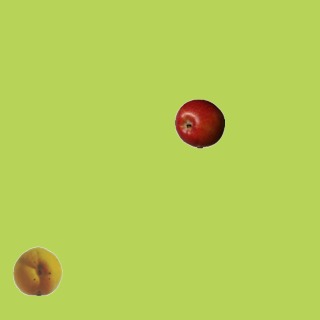Apple Braeburn: (174, 98, 224, 148)
Peach 2: (12, 245, 62, 295)
